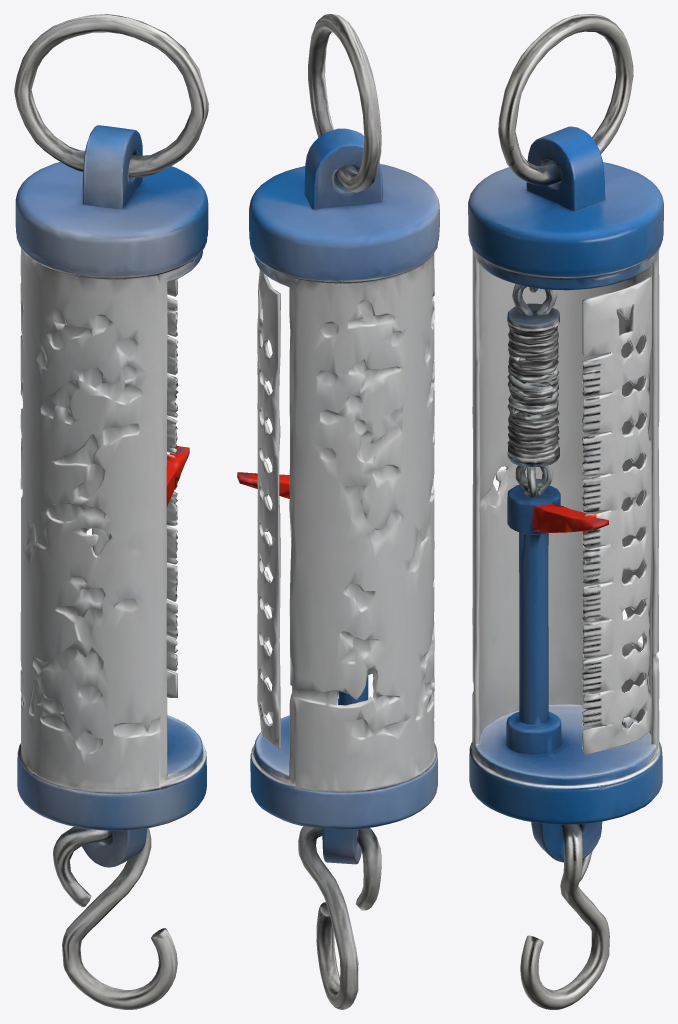
The model's file is spring-scale.glb.
3 views of the same model, side by side, from view 1: azimuth 30°, elevation 25°; view 2: azimuth 150°, elevation 25°; view 3: azimuth 270°, elevation 25° (orthographic).
Visible parts, largest first — view 1: spring-scale; view 2: spring-scale; view 3: spring-scale.
Part boxes in pixels (box(x1,y1,x2,y2)): spring-scale: box(14, 14, 208, 1009); spring-scale: box(237, 14, 439, 1009); spring-scale: box(468, 14, 663, 1009).
Size of the model in its own units: 0.0464 by 0.25 by 0.0452.
1 material, 1 textured.
